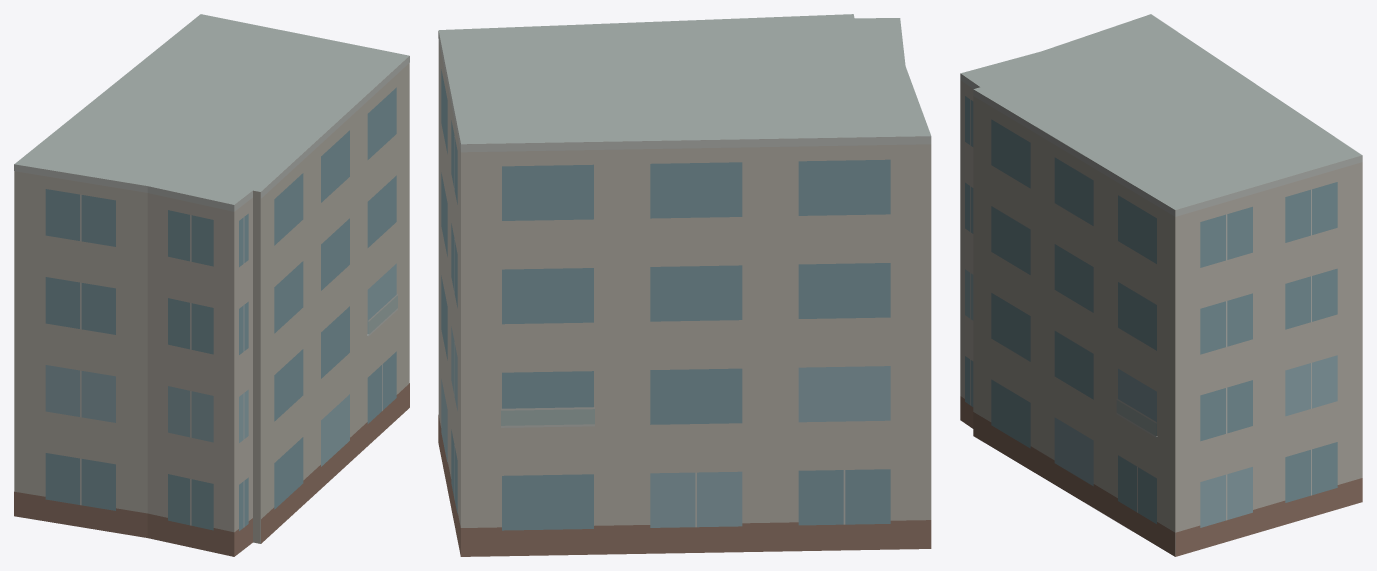
File: survey-upis-32904137.glb
The picture shows the model from 3 angles, left to right: view 1: azimuth 30°, elevation 25°; view 2: azimuth 150°, elevation 25°; view 3: azimuth 270°, elevation 25°; orthographic projection. The views are drawn at different scales.
Visible parts, largest first — view 1: survey-upis-32904137.tmp; view 2: survey-upis-32904137.tmp; view 3: survey-upis-32904137.tmp.
Part boxes in pixels (bbox=[...]): survey-upis-32904137.tmp: bbox=[14, 14, 409, 556]; survey-upis-32904137.tmp: bbox=[438, 14, 931, 556]; survey-upis-32904137.tmp: bbox=[960, 14, 1362, 556].
Bounding box in the file's own units: 15.17 × 12.5 × 13.15.
